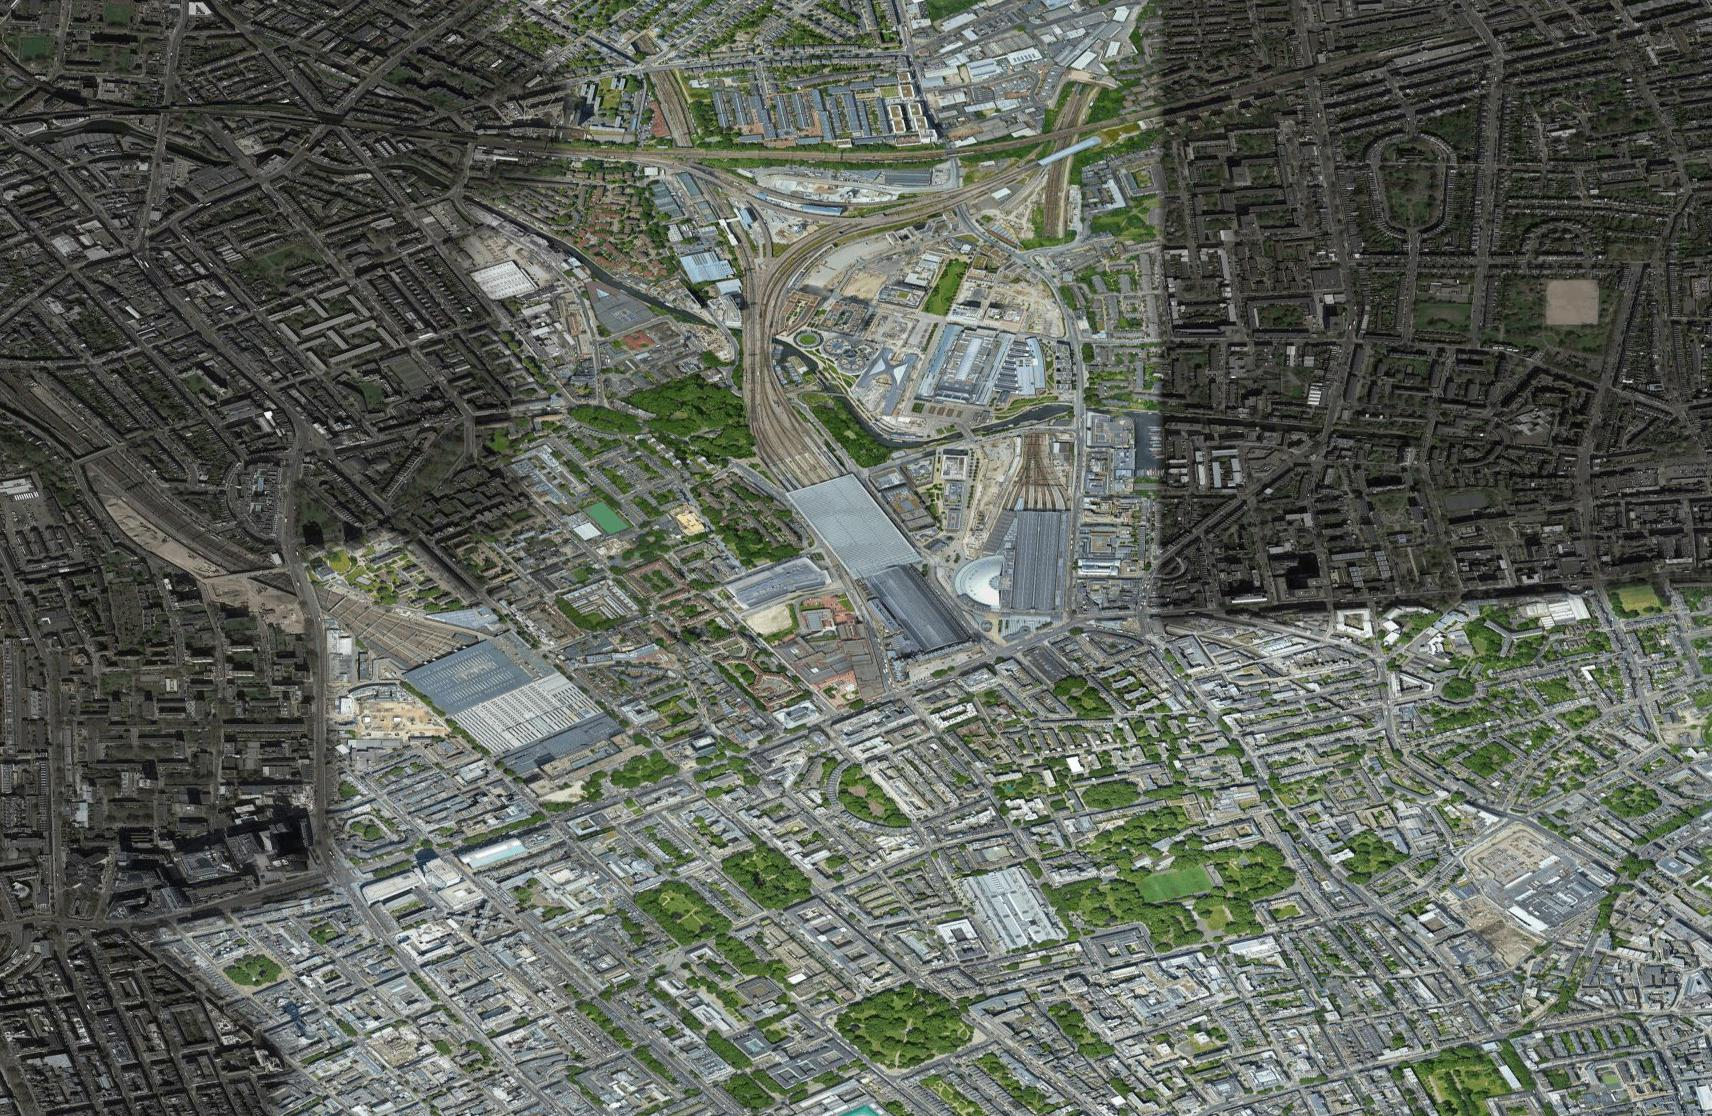train_station: (328, 590, 648, 795), (770, 459, 948, 630)
